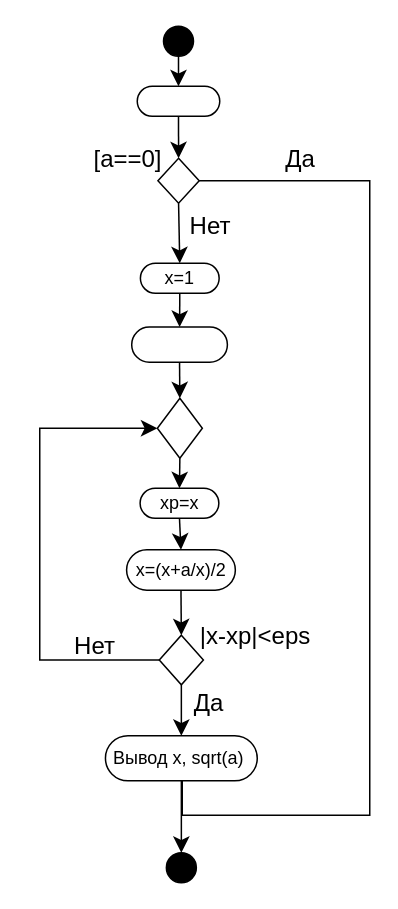
This 398x909 diagram has some shape labels left out. The shapes that lost their labels are listed below. From the top down, each one's centre as x and y in pixels, then its label:
At point 178,100: "Ввод x".
At point 178,344: "eps=1e-10".
